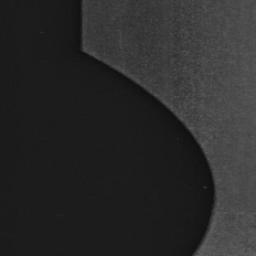Crescent gap: (83, 52, 215, 256)
